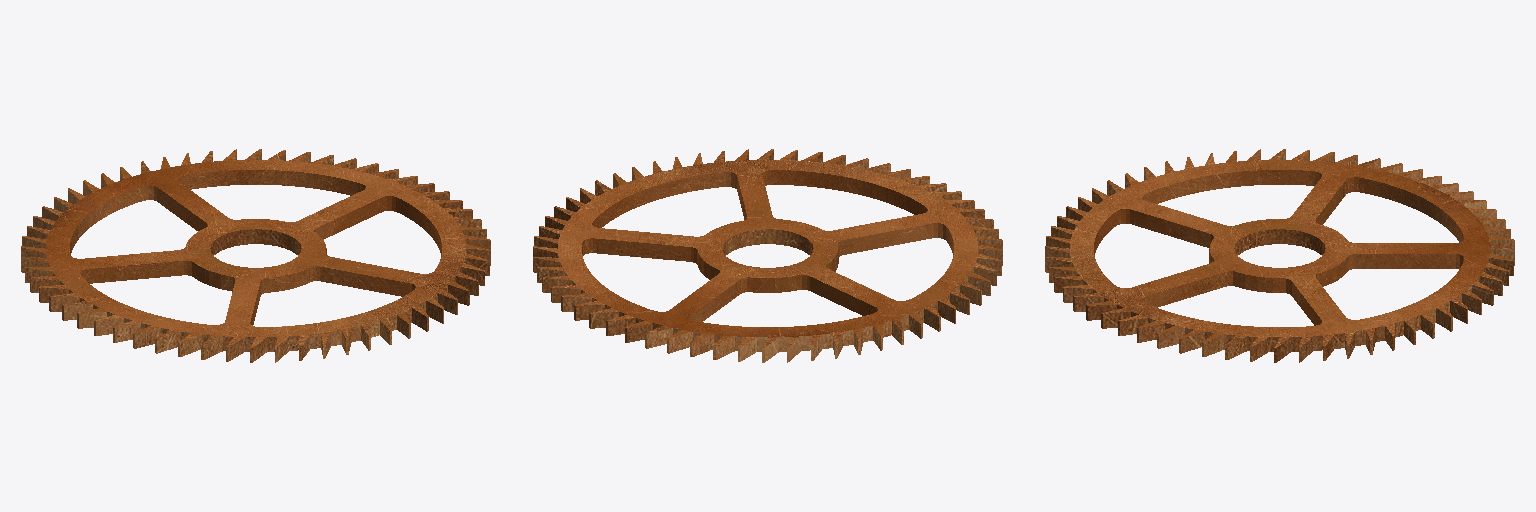
The picture shows the model from 3 angles: view 1: azimuth 30°, elevation 25°; view 2: azimuth 150°, elevation 25°; view 3: azimuth 270°, elevation 25°; orthographic projection.
Parts seen in each view (by area): view 1: Circle; view 2: Circle; view 3: Circle.
Boxes of the visible parts, x1=… form: Circle: x1=21, y1=149, x2=490, y2=362; Circle: x1=533, y1=149, x2=1002, y2=362; Circle: x1=1045, y1=149, x2=1514, y2=362.
Bounding box in the file's own units: 2.37 × 0.0826 × 2.37.
1 materials, 1 textured.